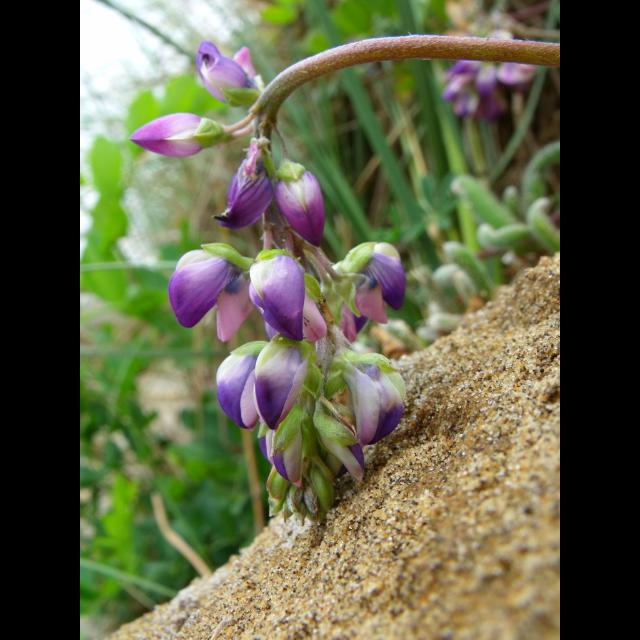Flower: (124, 38, 412, 530), (436, 45, 544, 125)
